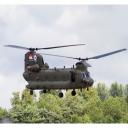helicopter: (6, 44, 127, 97)
